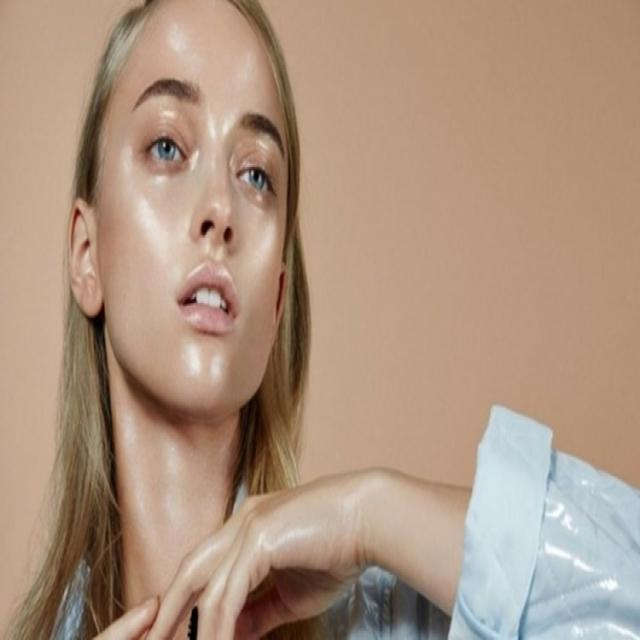oily: (134, 196, 192, 260), (204, 98, 240, 147), (166, 18, 190, 56), (242, 56, 264, 92), (266, 213, 279, 265), (182, 340, 200, 376), (210, 353, 226, 389), (120, 144, 134, 184)
